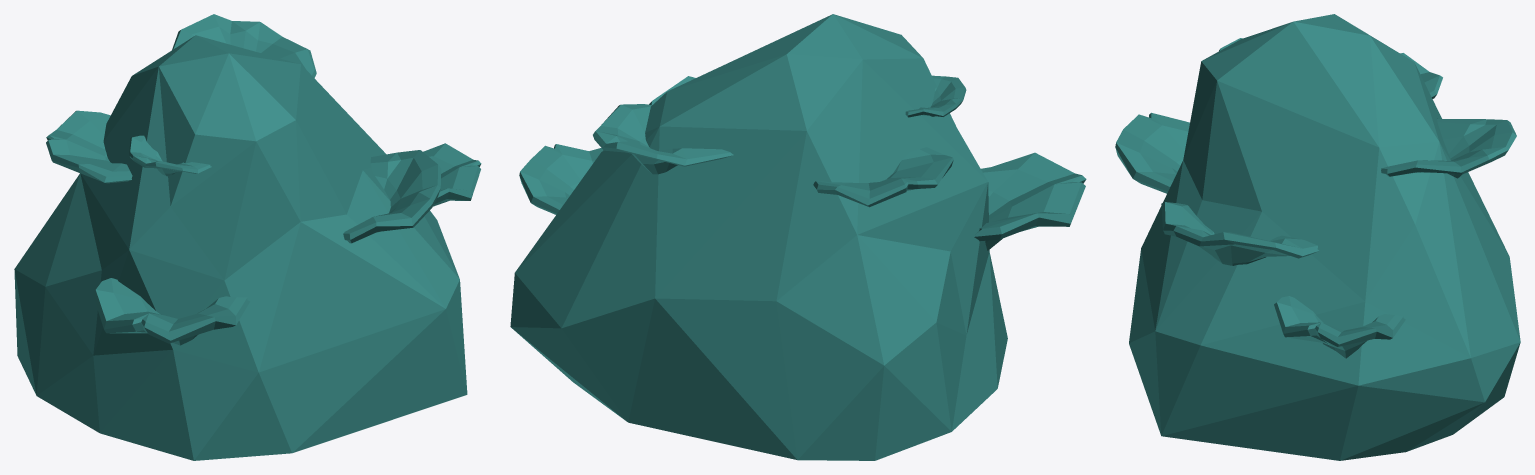
The model's file is SM_Coral_Plate_Rock_Dead_A.fbx.
3 views of the same model, side by side, from view 1: azimuth 30°, elevation 25°; view 2: azimuth 150°, elevation 25°; view 3: azimuth 270°, elevation 25° (orthographic). The views are drawn at different scales.
Parts seen in each view (by area): view 1: coral-plate-rock-dead-a; view 2: coral-plate-rock-dead-a; view 3: coral-plate-rock-dead-a.
Boxes of the visible parts, <box> form: coral-plate-rock-dead-a: <box>14,14,481,460</box>; coral-plate-rock-dead-a: <box>510,14,1086,460</box>; coral-plate-rock-dead-a: <box>1115,14,1520,460</box>.
Bounding box in the file's own units: 2.68 × 1.93 × 2.13.
